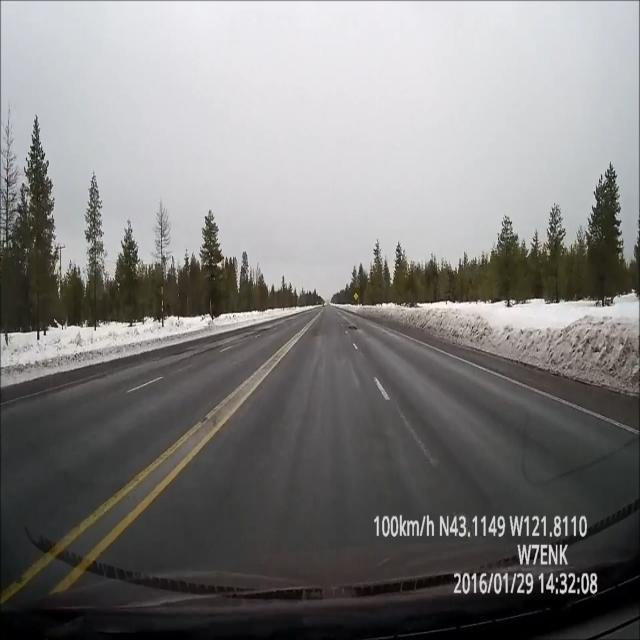pothole: (343, 316, 361, 334)
